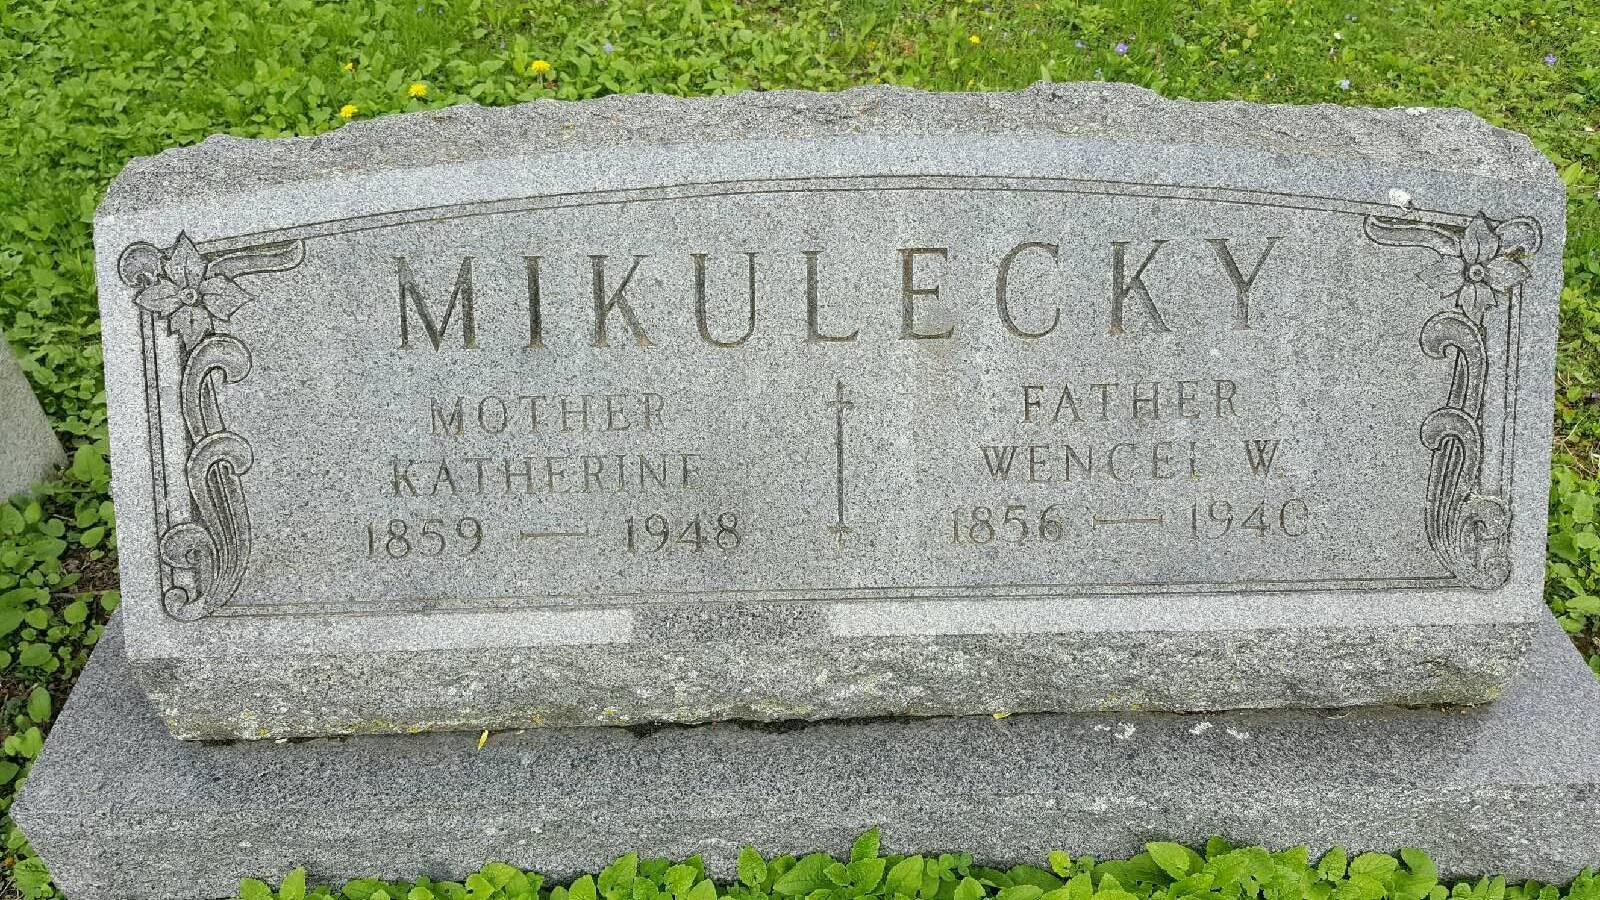upright: (7, 91, 1600, 866)
